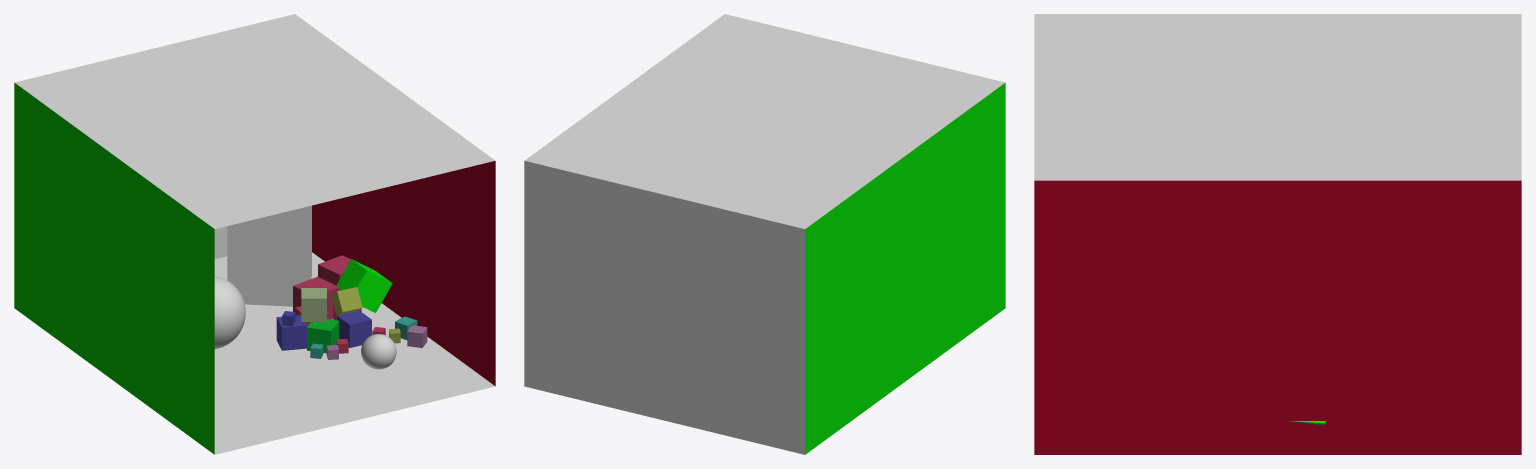
Rendered from cornell.dae.
The picture shows the model from 3 angles, left to right: view 1: azimuth 30°, elevation 25°; view 2: azimuth 150°, elevation 25°; view 3: azimuth 270°, elevation 25°; orthographic projection. The views are drawn at different scales.
Visible parts, largest first — view 1: Cube, Cube_001_002, Sphere_001, Cube_006_001_000, Sphere_002, Cube_005, Cube_004, Cube_006_001_006, Cube_006_001_005, Cube_006_001_010, Cube_004_001, Cube_006_001_004; view 2: Cube; view 3: Cube.
Boxes of the visible parts, x1,y1,x2,y2 form: Cube: (14,14,495,454); Cube_001_002: (227,205,311,306); Sphere_001: (214,276,245,349); Cube_006_001_000: (336,259,392,313); Sphere_002: (361,334,396,369); Cube_005: (337,310,371,347); Cube_004: (276,315,306,350); Cube_006_001_006: (301,288,326,321); Cube_006_001_005: (307,319,339,353); Cube_006_001_010: (293,276,339,319); Cube_004_001: (331,287,362,316); Cube_006_001_004: (318,255,350,285); Cube: (524,14,1005,454); Cube: (1034,14,1521,454).
Size of the model in its own units: 5.7 by 7.01 by 4.36.
